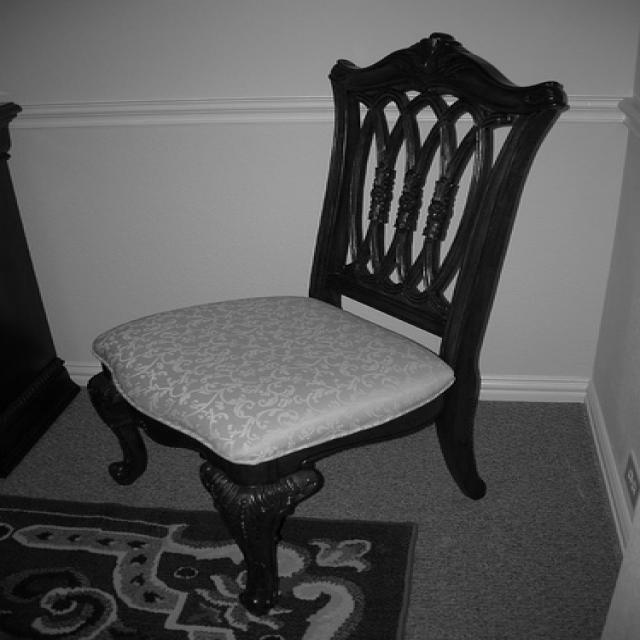chair: (88, 30, 572, 612)
